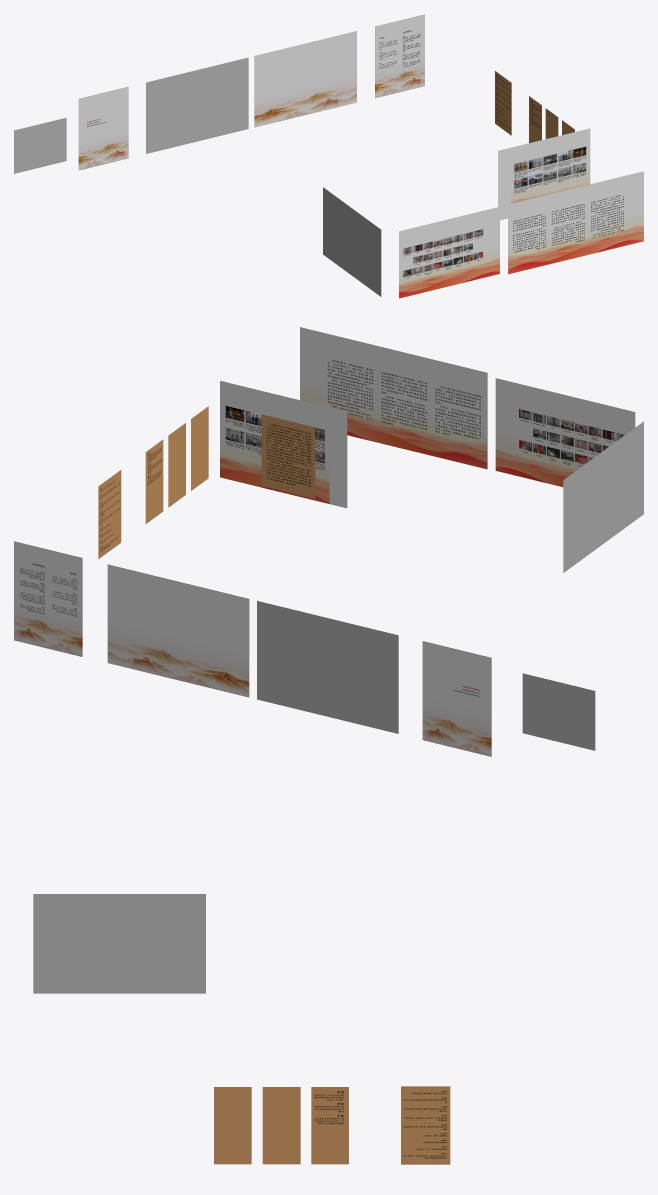
3 renders of one model, top to bottom at view 1: azimuth 30°, elevation 25°; view 2: azimuth 150°, elevation 25°; view 3: azimuth 270°, elevation 25°, orthographic. The views are drawn at different scales.
Visible parts, largest first — view 1: 机动4中队_建设成就, 机动4中队_发展历程右, 机动4中队_发展历程左, 机动4中队_军营文化, 机动4中队_重大任务, 机动4中队_官兵风采, 机动4中队_历史沿革, 机动4中队_历任主官, 机动4中队_前言, 机动4中队_集体荣誉, 机动4中队_个人荣誉左; view 2: 机动4中队_建设成就, 机动4中队_发展历程右, 机动4中队_发展历程左, 机动4中队_军营文化, 机动4中队_重大任务, 机动4中队_官兵风采, 机动4中队_历史沿革, 机动4中队_历任主官, 机动4中队_前言, 机动4中队_未来寄语, 机动4中队_集体荣誉, 机动4中队_个人荣誉左 (+2 smaller); view 3: 机动4中队_官兵风采, 机动4中队_集体荣誉, 机动4中队_个人荣誉中, 机动4中队_个人荣誉右, 机动4中队_个人荣誉左.
Boxes of the visible parts, x1=… form: 机动4中队_建设成就: x1=508, y1=171, x2=643, y2=274; 机动4中队_发展历程右: x1=254, y1=31, x2=356, y2=127; 机动4中队_发展历程左: x1=146, y1=57, x2=248, y2=153; 机动4中队_军营文化: x1=399, y1=207, x2=499, y2=298; 机动4中队_重大任务: x1=498, y1=128, x2=590, y2=220; 机动4中队_官兵风采: x1=323, y1=187, x2=381, y2=296; 机动4中队_历史沿革: x1=78, y1=86, x2=128, y2=170; 机动4中队_历任主官: x1=375, y1=14, x2=424, y2=98; 机动4中队_前言: x1=14, y1=117, x2=66, y2=173; 机动4中队_集体荣誉: x1=495, y1=71, x2=511, y2=135; 机动4中队_个人荣誉左: x1=529, y1=96, x2=541, y2=143; 机动4中队_建设成就: x1=300, y1=327, x2=487, y2=469; 机动4中队_发展历程右: x1=107, y1=564, x2=249, y2=697; 机动4中队_发展历程左: x1=257, y1=601, x2=398, y2=733; 机动4中队_军营文化: x1=495, y1=378, x2=635, y2=486; 机动4中队_重大任务: x1=220, y1=381, x2=347, y2=508; 机动4中队_官兵风采: x1=563, y1=421, x2=643, y2=572; 机动4中队_历史沿革: x1=422, y1=641, x2=491, y2=756; 机动4中队_历任主官: x1=14, y1=541, x2=82, y2=656; 机动4中队_前言: x1=522, y1=673, x2=595, y2=750; 机动4中队_未来寄语: x1=261, y1=414, x2=315, y2=498; 机动4中队_集体荣誉: x1=98, y1=470, x2=121, y2=558; 机动4中队_个人荣誉左: x1=145, y1=439, x2=163, y2=523; 机动4中队_官兵风采: x1=33, y1=894, x2=205, y2=993; 机动4中队_集体荣誉: x1=401, y1=1086, x2=450, y2=1164; 机动4中队_个人荣誉中: x1=262, y1=1087, x2=300, y2=1164; 机动4中队_个人荣誉右: x1=214, y1=1087, x2=251, y2=1164; 机动4中队_个人荣誉左: x1=311, y1=1087, x2=348, y2=1164.
Bounding box in the file's own units: 1325 × 216 × 1154.
